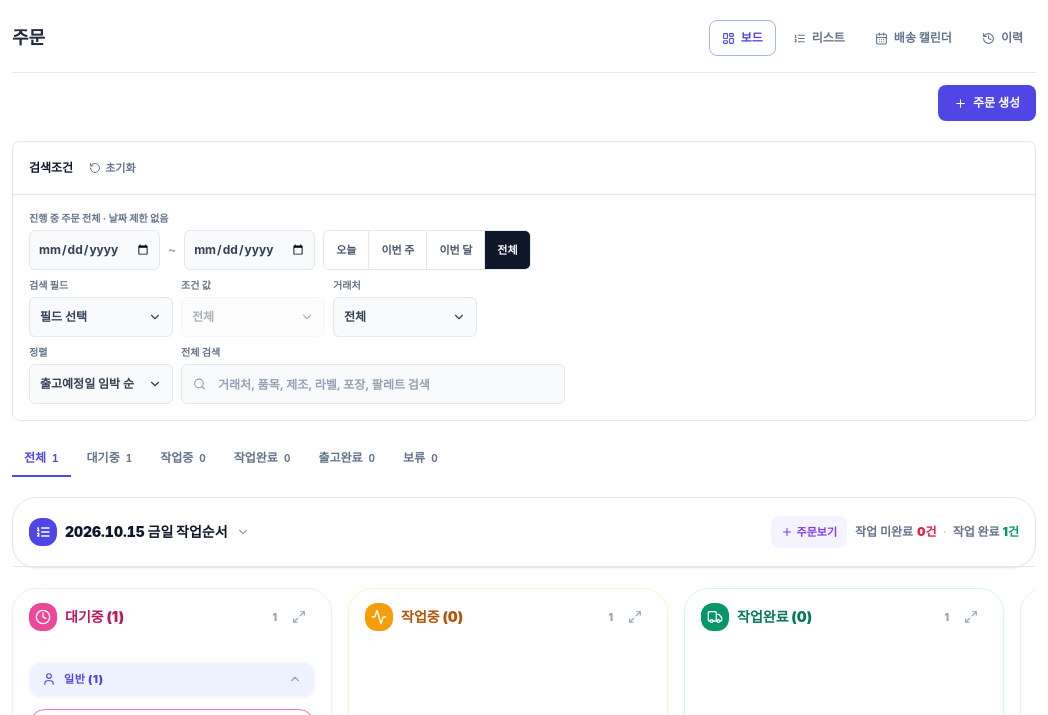
작업줄 완료의 출고 임박은 한국 날짜와 ISO 표현에서 같다
Step 1. Click the button "2026.10.15 금일 작업순서" → (139, 532), box [29, 510, 250, 554]
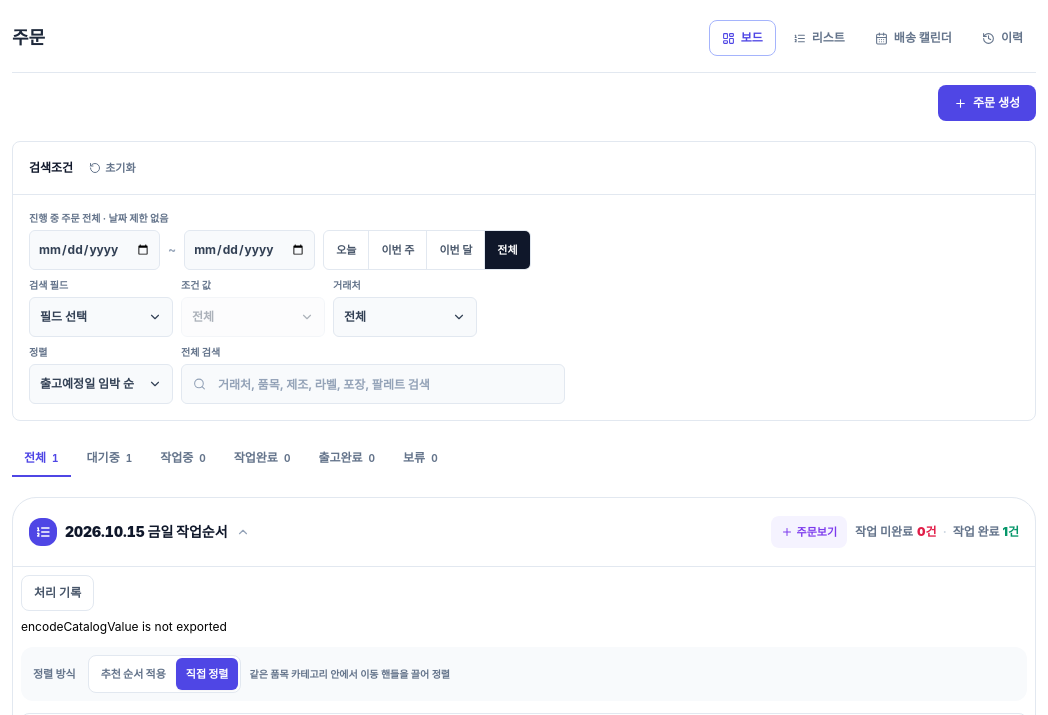
Step 2. Click the button "작업 완료 1건" → (986, 532), box [953, 524, 1019, 540]
(page scrolled)
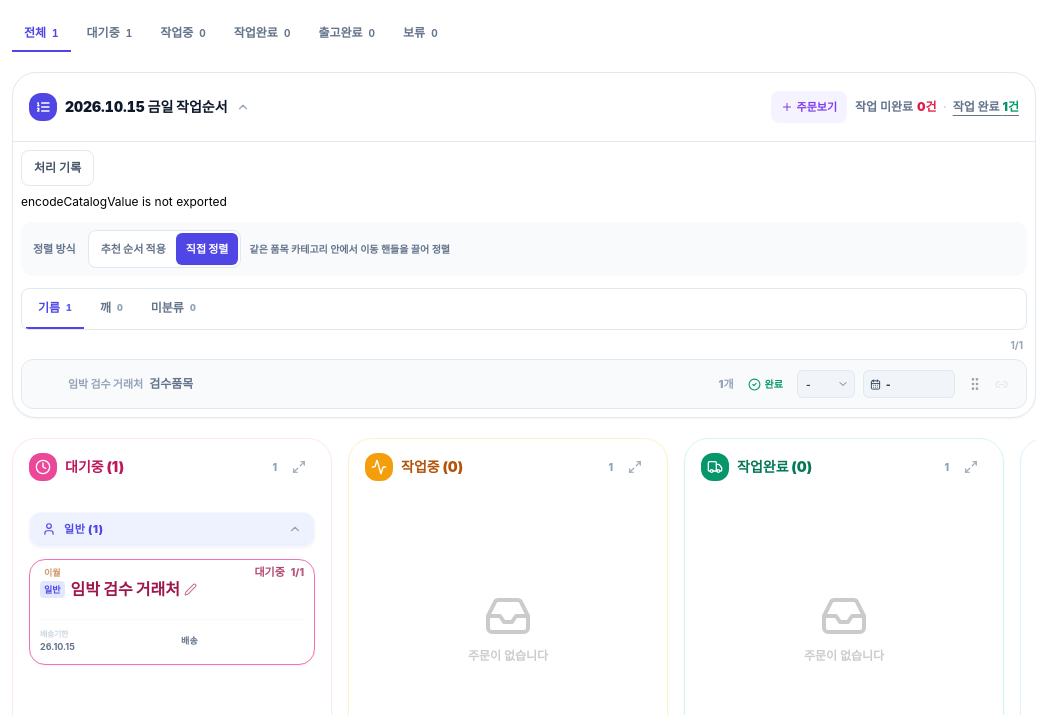
Result: the text "임박 검수 거래처" is shown at [68, 376, 143, 392]
